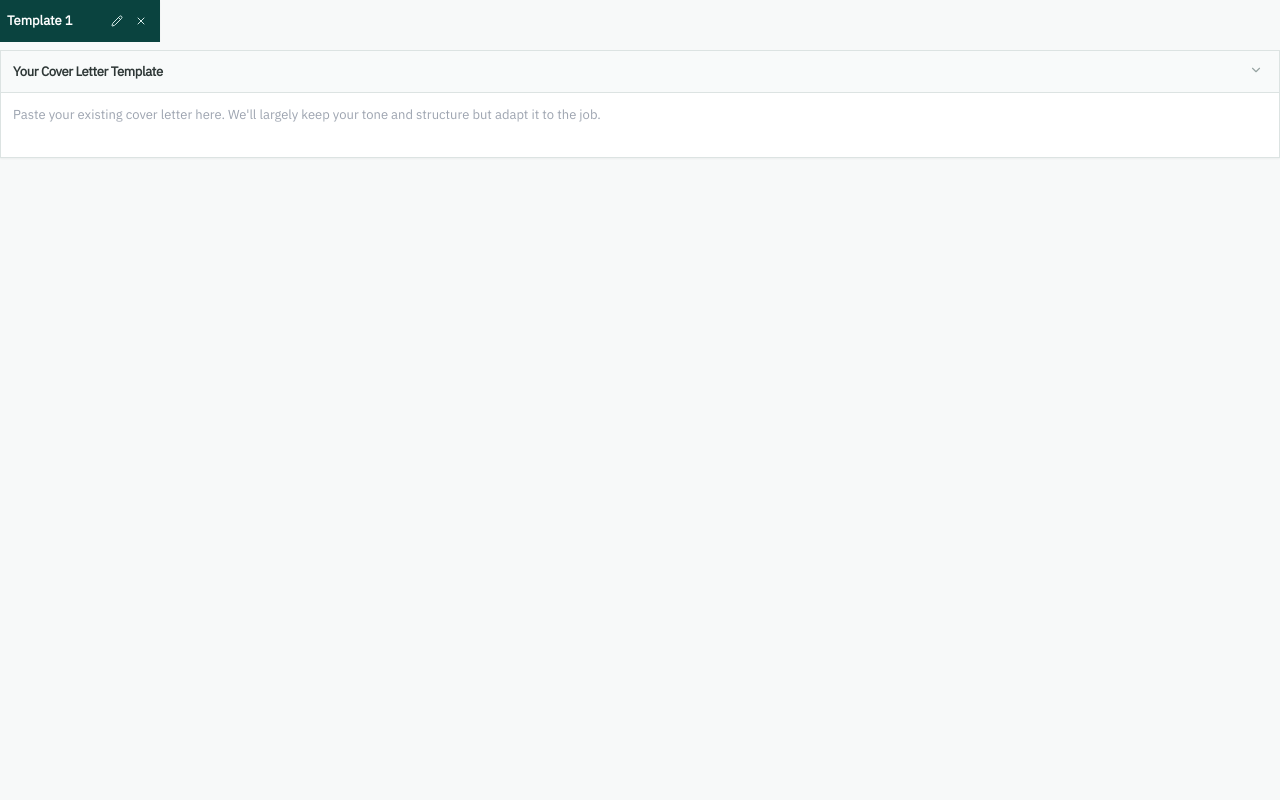
Scenario: TemplateInput › when authenticated › shows delete confirmation modal when remove button is clicked
Click the button titled "Delete Template". click: (141, 21)
box: [129,1,153,41]
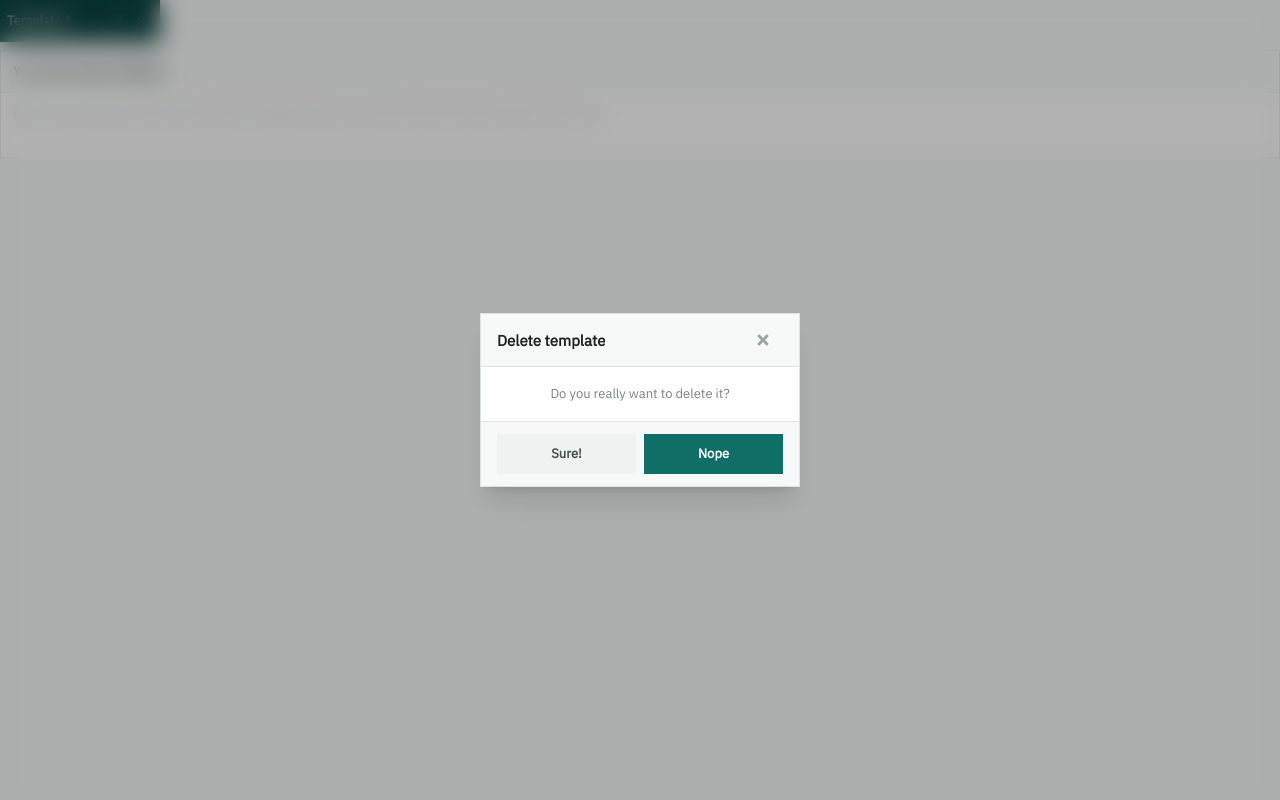
Expected: the text "Do you really want to delete it?" is shown, [550,385,730,402]
Expected: the text "Sure!" is shown, [551,444,582,463]
Expected: the text "Nope" is shown, [698,444,729,463]
